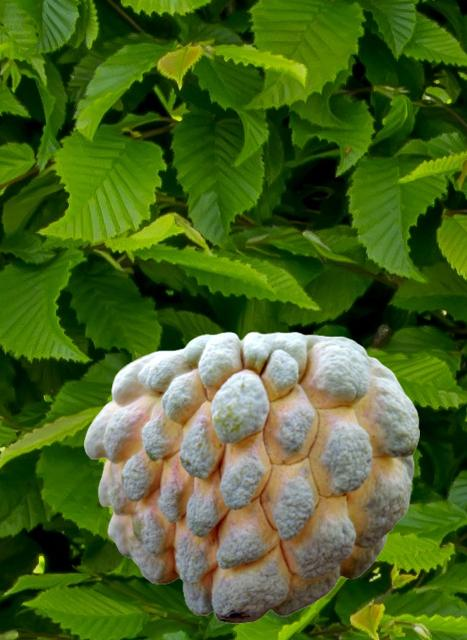atis: (84, 331, 418, 622)
